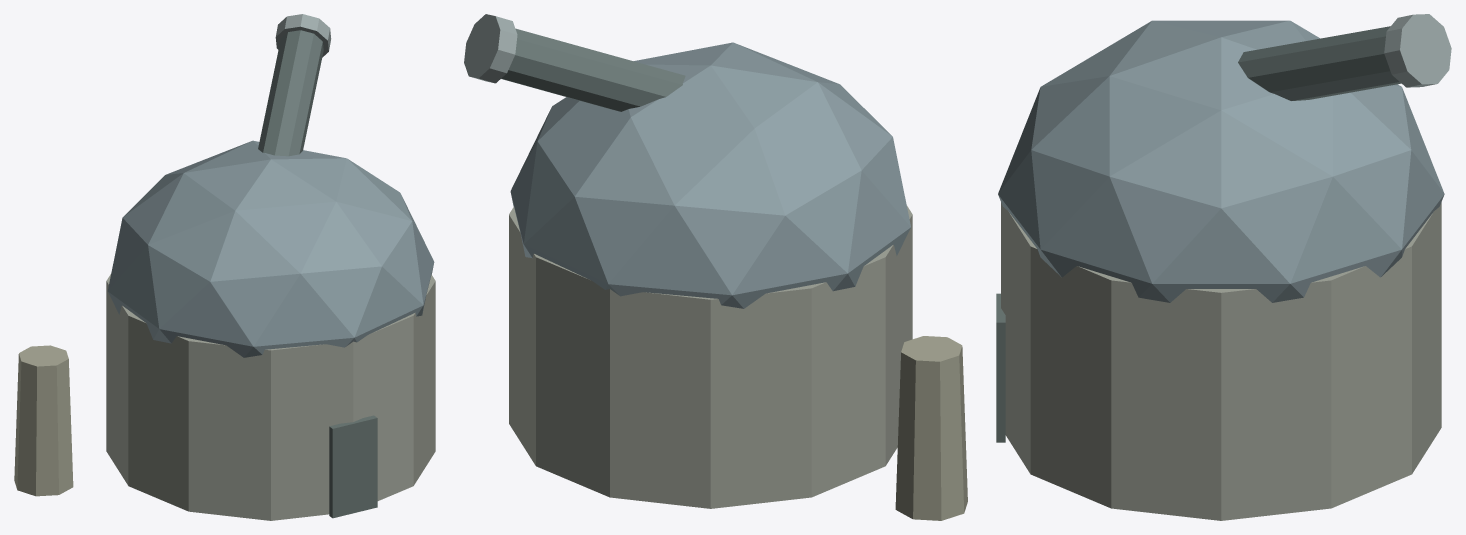
The model's file is observatory.glb.
3 views of the same model, side by side, from view 1: azimuth 30°, elevation 25°; view 2: azimuth 150°, elevation 25°; view 3: azimuth 270°, elevation 25° (orthographic). The views are drawn at different scales.
Visible parts, largest first — view 1: observatory; view 2: observatory; view 3: observatory.
Part boxes in pixels (x1=…): observatory: x1=14, y1=14, x2=435, y2=520; observatory: x1=464, y1=14, x2=967, y2=520; observatory: x1=996, y1=14, x2=1451, y2=520.
Size of the model in its own units: 18.3 by 16.87 by 14.47.
